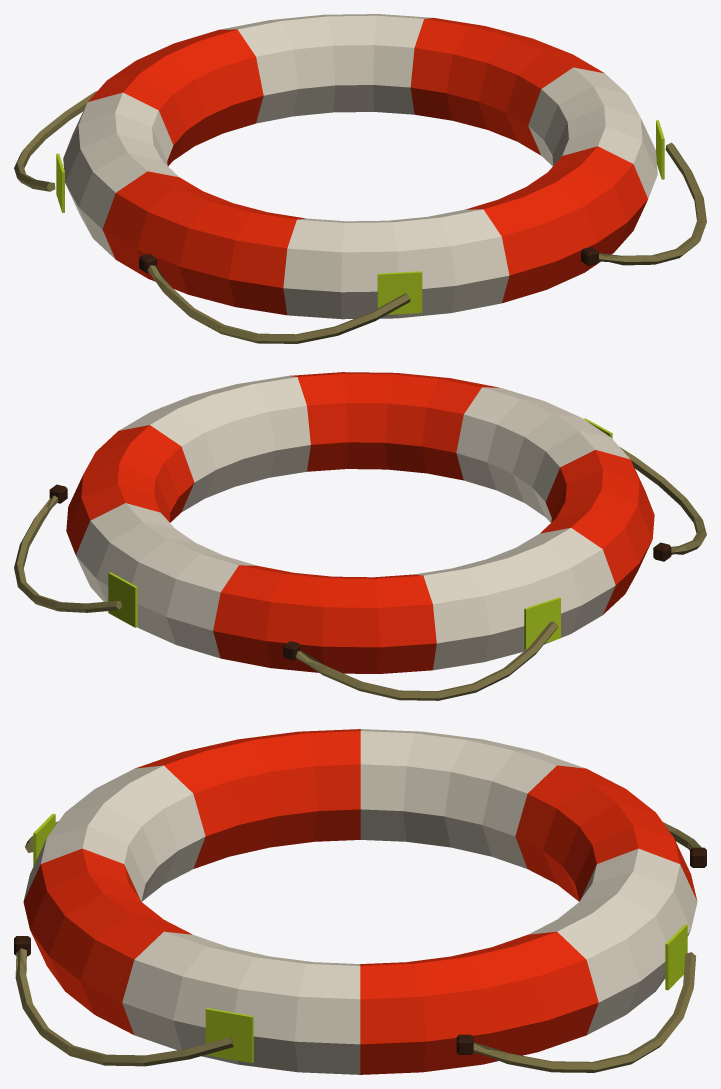
The model's file is RESCUE_07_FlotationRing.obj.
The picture shows the model from 3 angles, top to bottom: view 1: azimuth 30°, elevation 25°; view 2: azimuth 150°, elevation 25°; view 3: azimuth 270°, elevation 25°; orthographic projection. The views are drawn at different scales.
Parts seen in each view (by area): view 1: RESCUE_07_FlotationRing_Ring, RESCUE_07_FlotationRing_Grab_Rope, RESCUE_07_FlotationRing_Reflective_Tape, RESCUE_07_FlotationRing_Rope_Toggles; view 2: RESCUE_07_FlotationRing_Ring, RESCUE_07_FlotationRing_Grab_Rope, RESCUE_07_FlotationRing_Reflective_Tape, RESCUE_07_FlotationRing_Rope_Toggles; view 3: RESCUE_07_FlotationRing_Ring, RESCUE_07_FlotationRing_Grab_Rope, RESCUE_07_FlotationRing_Reflective_Tape, RESCUE_07_FlotationRing_Rope_Toggles.
Part boxes in pixels (box(x1,y1,x2,y2)): RESCUE_07_FlotationRing_Ring: box(63, 14, 657, 319); RESCUE_07_FlotationRing_Grab_Rope: box(14, 91, 706, 343); RESCUE_07_FlotationRing_Reflective_Tape: box(56, 120, 664, 314); RESCUE_07_FlotationRing_Rope_Toggles: box(139, 246, 598, 273); RESCUE_07_FlotationRing_Ring: box(66, 372, 654, 673); RESCUE_07_FlotationRing_Grab_Rope: box(14, 446, 706, 700); RESCUE_07_FlotationRing_Reflective_Tape: box(108, 407, 612, 649); RESCUE_07_FlotationRing_Rope_Toggles: box(49, 484, 671, 660); RESCUE_07_FlotationRing_Ring: box(23, 729, 697, 1074); RESCUE_07_FlotationRing_Grab_Rope: box(15, 821, 701, 1072); RESCUE_07_FlotationRing_Reflective_Tape: box(33, 813, 687, 1062); RESCUE_07_FlotationRing_Rope_Toggles: box(14, 847, 706, 1054).
Size of the model in its own units: 0.8225 by 0.14 by 0.8225.
